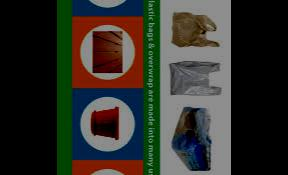Plastic: (163, 58, 226, 102), (170, 8, 220, 50)
